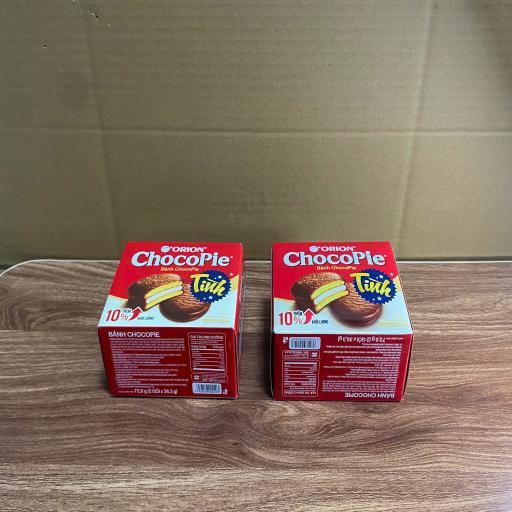chocopie: (96, 242, 239, 399), (273, 243, 412, 404)
